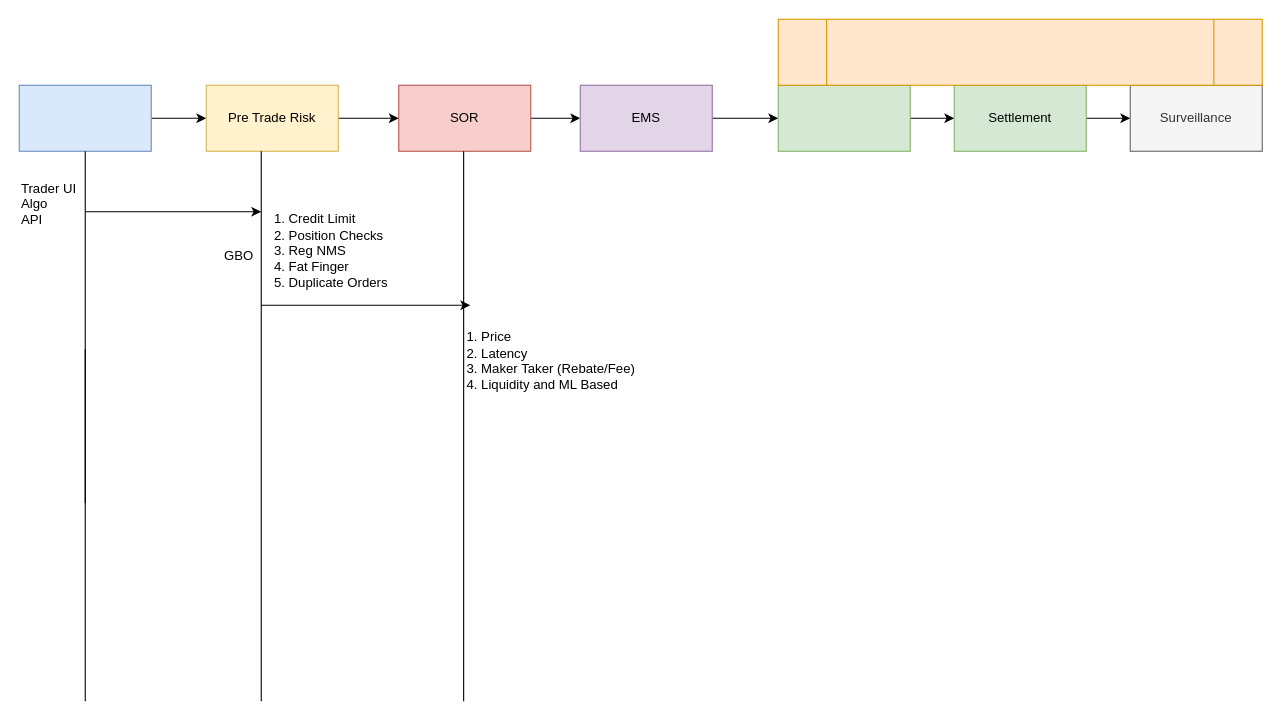
Image size: 1282x722. Some labels were removed from this diagram. The centre of each missing label's shape, as x and y in pixels:
Clearance: (x=843, y=117)
Client: (x=84, y=117)
Post Trade: (x=1019, y=51)
